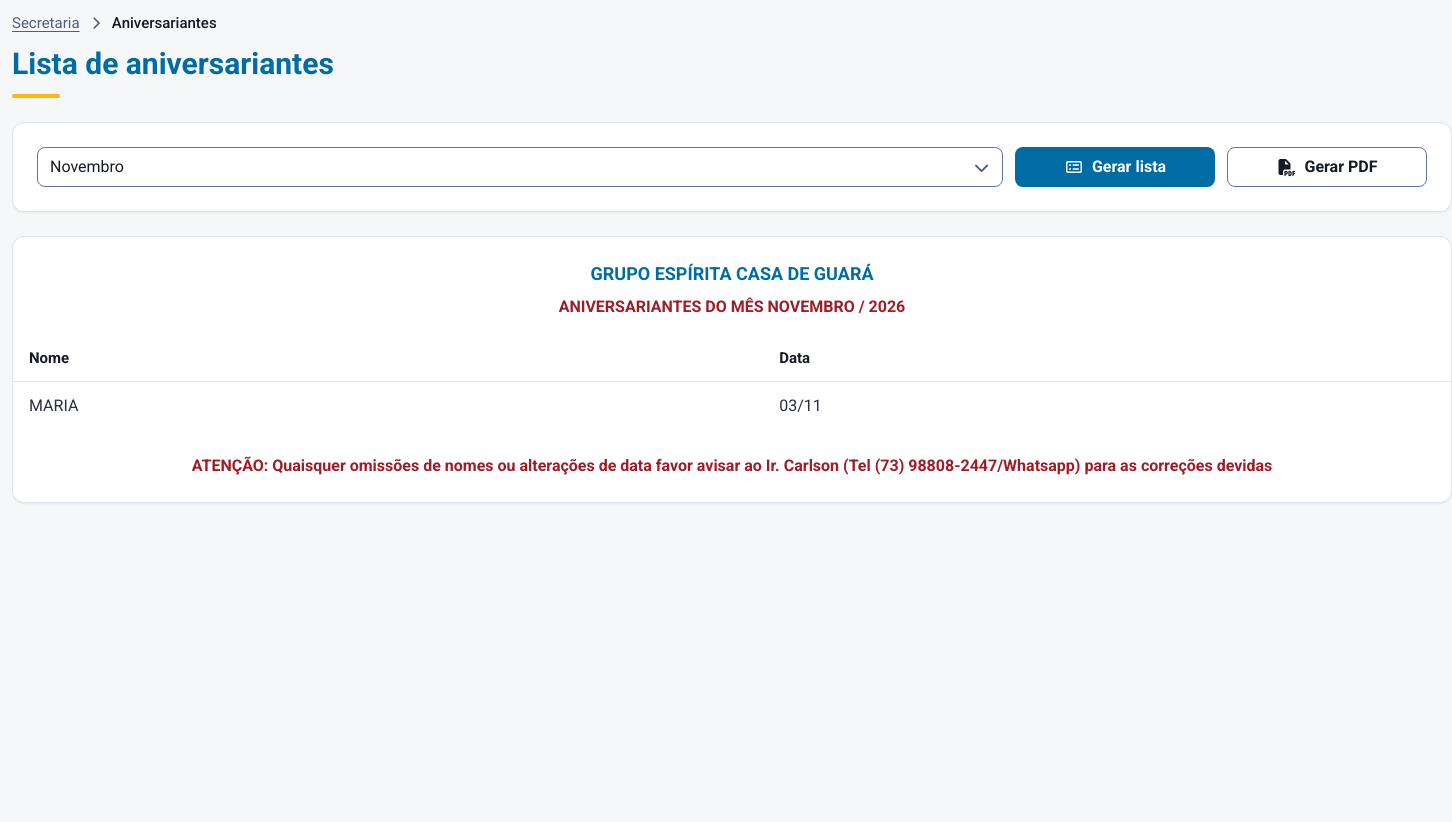
Test: TU-38 "Gerar PDF" shows notices and failures › alerts a network failure with the generic message
Click the button "Gerar PDF": {"x": 1327, "y": 167} [1227,147,1427,187]
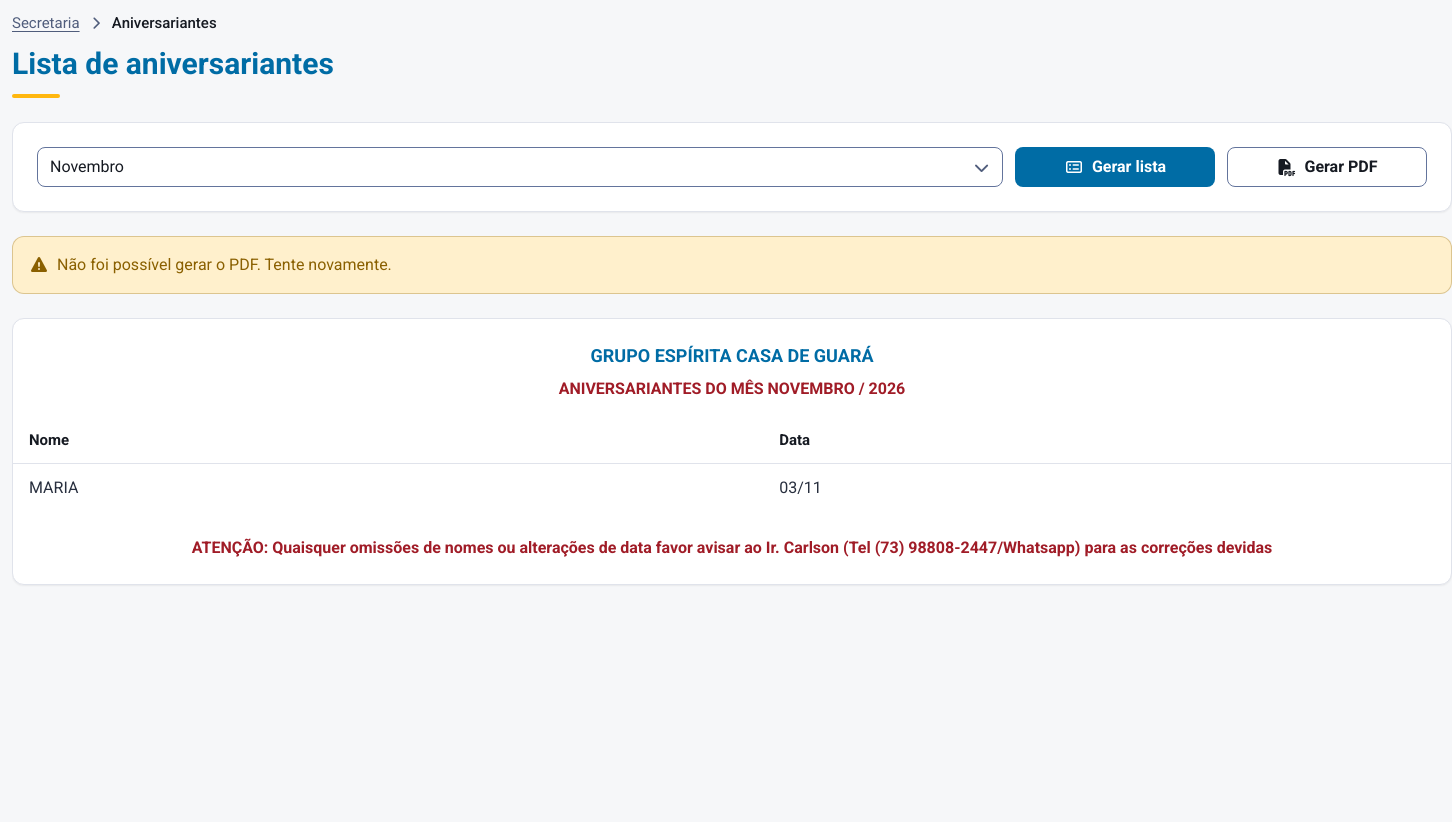
Result: the text "Não foi possível gerar o PDF. Tente novamente." is shown at [57,253,392,277]
